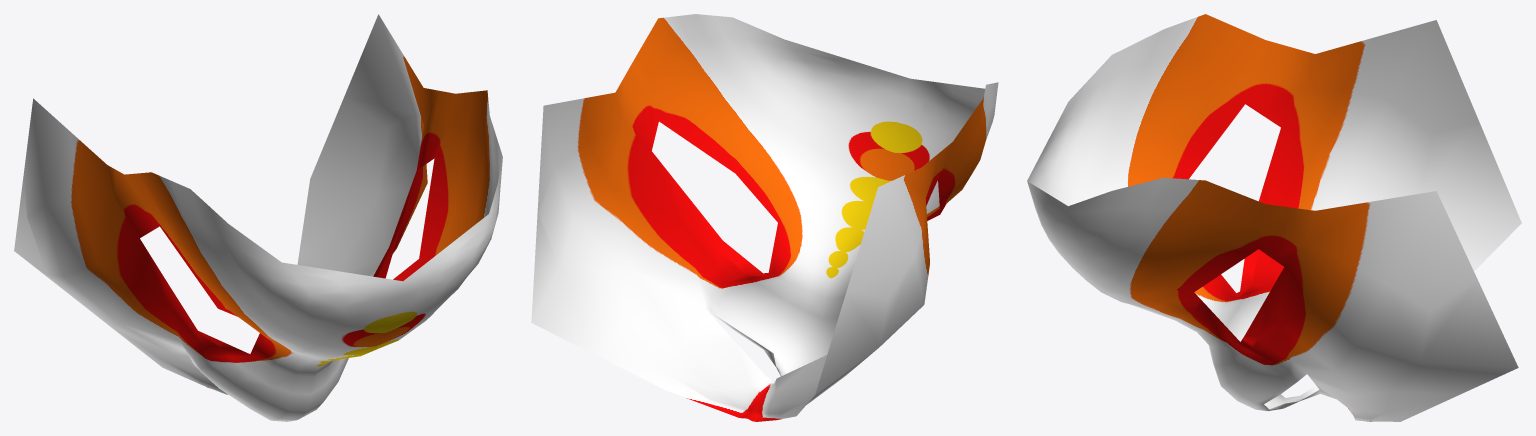
Rendered from FireAnimation2.fbx.
3 views of the same model, side by side, from view 1: azimuth 30°, elevation 25°; view 2: azimuth 150°, elevation 25°; view 3: azimuth 270°, elevation 25° (orthographic). The views are drawn at different scales.
Visible parts, largest first — view 1: pasted__pasted__pSphere1; view 2: pasted__pasted__pSphere1; view 3: pasted__pasted__pSphere1.
Part boxes in pixels (x1,y1,x2,y2): pasted__pasted__pSphere1: [14, 14, 502, 421]; pasted__pasted__pSphere1: [531, 14, 998, 421]; pasted__pasted__pSphere1: [1027, 14, 1521, 421].
Size of the model in its own units: 5.14 by 4.15 by 5.82.
